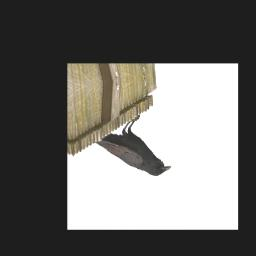Crow: (93, 110, 172, 186)
